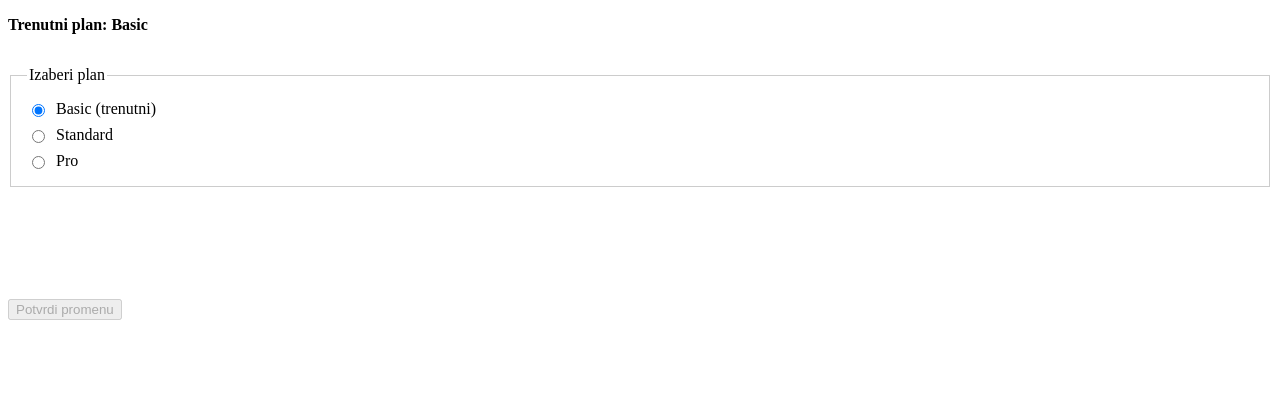
it: PlanChangePage › selecting a plan shows its amount
The width and height of the screenshot is (1280, 393).
Expected: the text "Trenutni plan: Basic" is shown, [8,16,148,33]
Click the radio button labelled "Pro". click: point(38, 162)
box: [32,156,45,169]
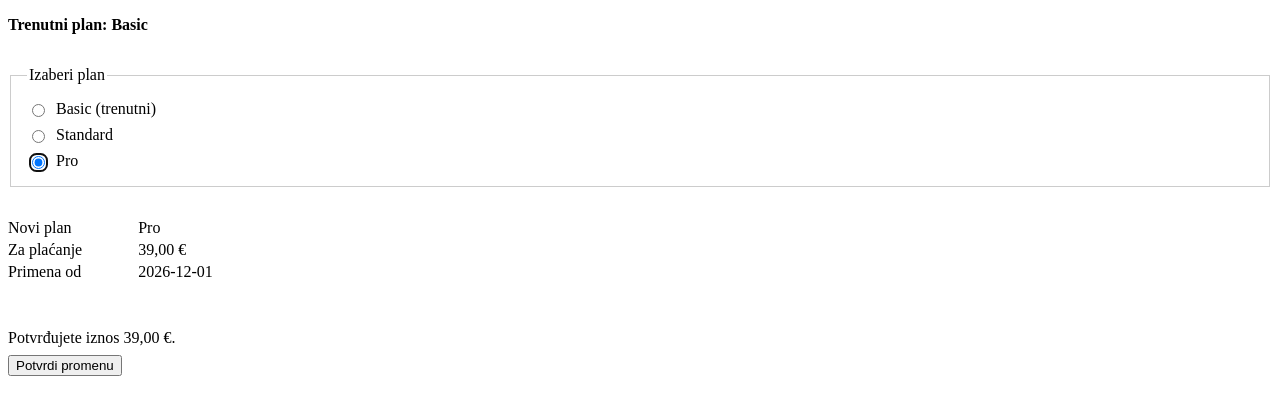
Result: the button "Potvrdi promenu" is enabled at [8,355,122,376]
